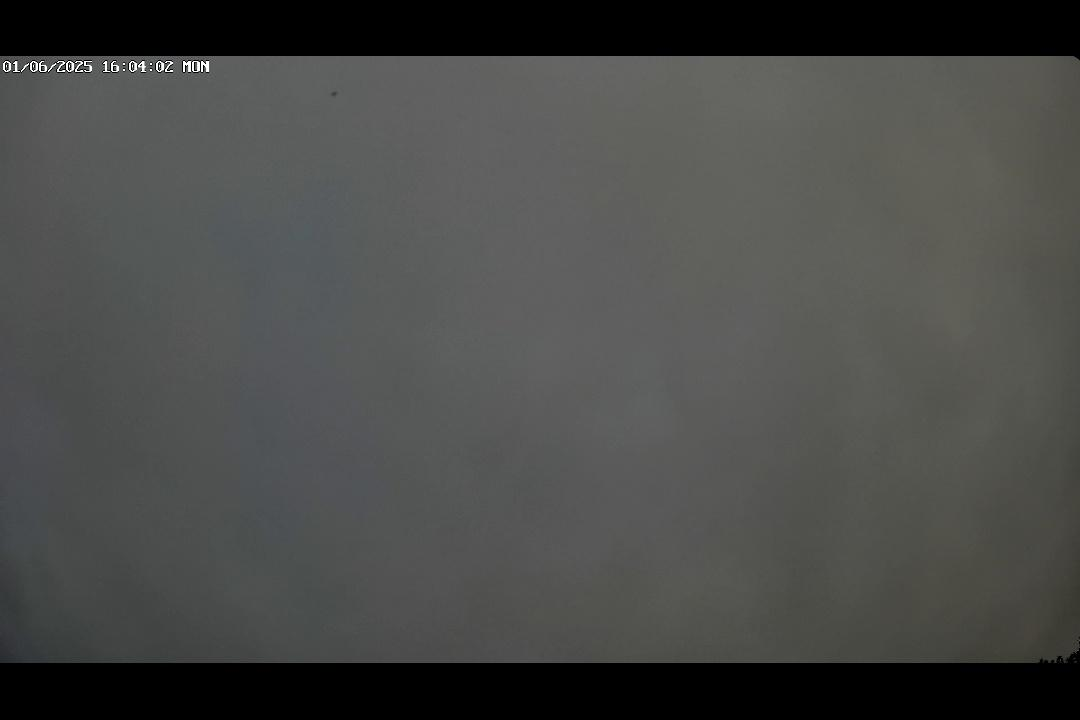WildLife: (320, 87, 348, 104)
